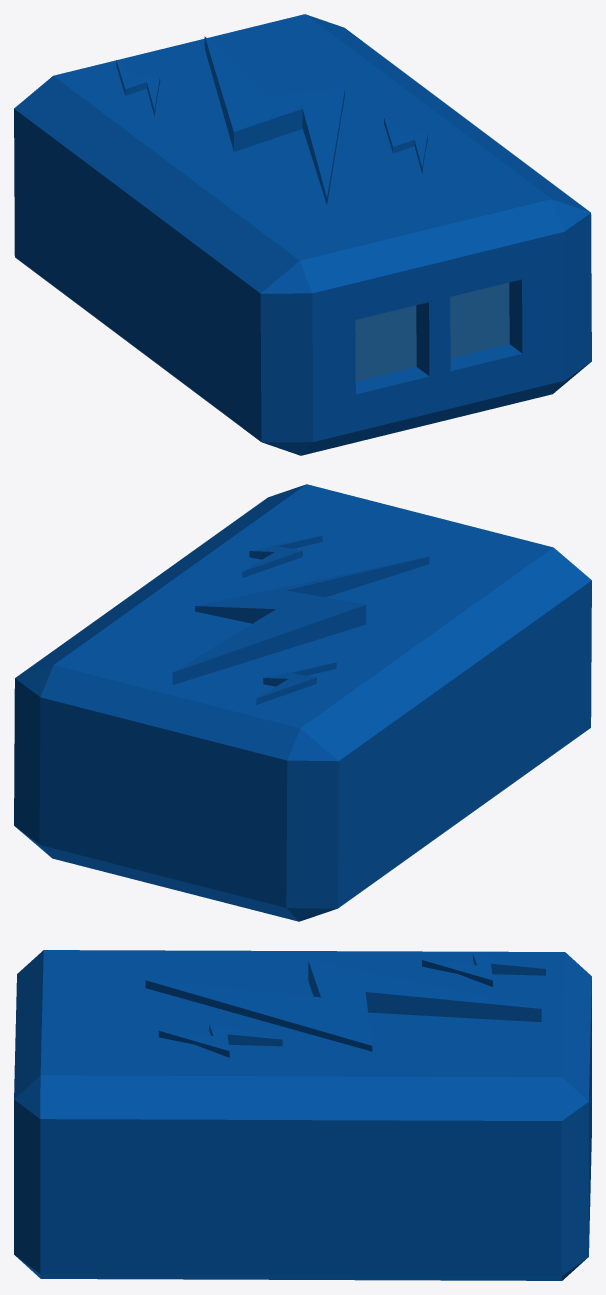
File: Batarya 1.fbx
3 views of the same model, one above another, from view 1: azimuth 30°, elevation 25°; view 2: azimuth 150°, elevation 25°; view 3: azimuth 270°, elevation 25° (orthographic). The views are drawn at different scales.
Parts seen in each view (by area): view 1: Batarya 1; view 2: Batarya 1; view 3: Batarya 1.
Part boxes in pixels (x1,y1,x2,y2): Batarya 1: [14, 14, 591, 455]; Batarya 1: [14, 484, 591, 921]; Batarya 1: [14, 950, 591, 1280].
Size of the model in its own units: 168 by 104 by 242.
